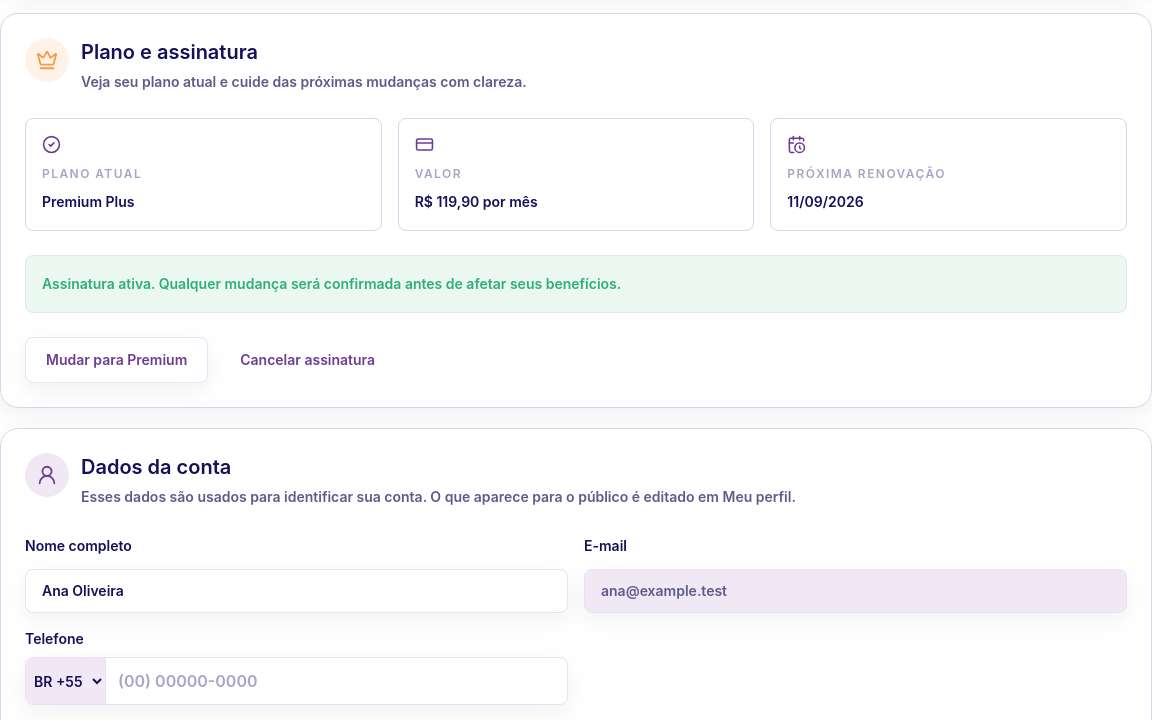
it: TherapistSettingsPage › shows the benefits end date immediately after scheduling cancellation
(page scrolled)
Click the button "Cancelar assinatura": [308, 360] box [220,337,395,383]
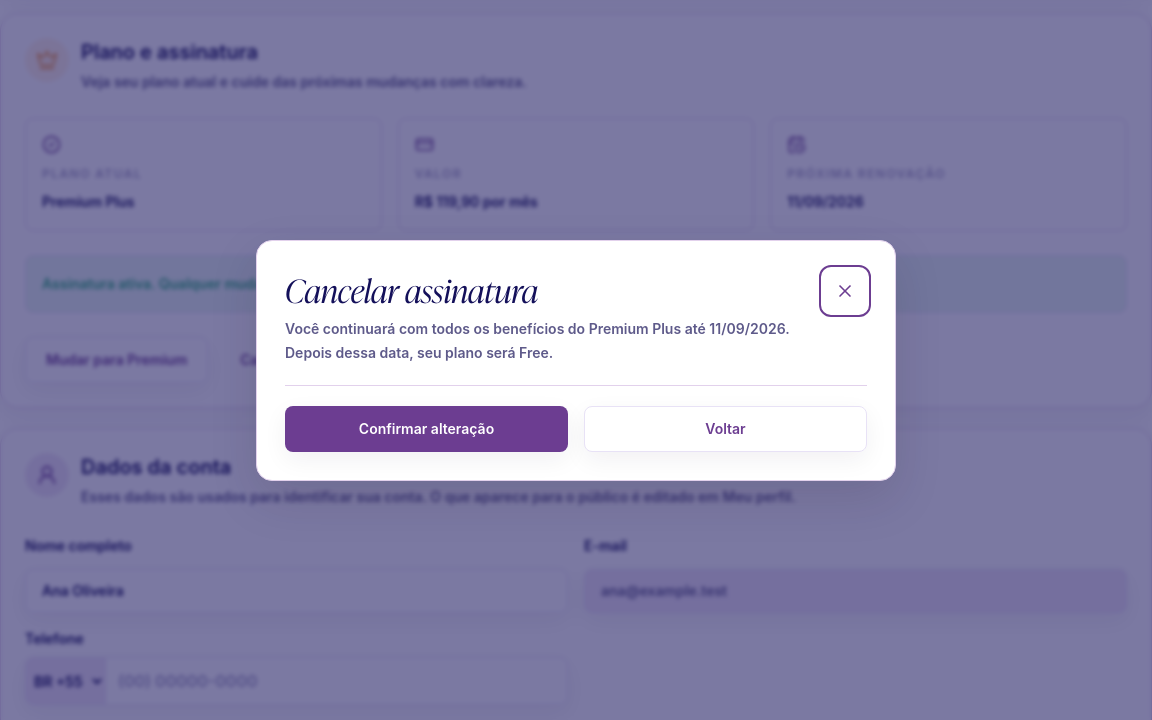
Click the button "Confirmar alteração": [426, 428] box [285,406,568,452]
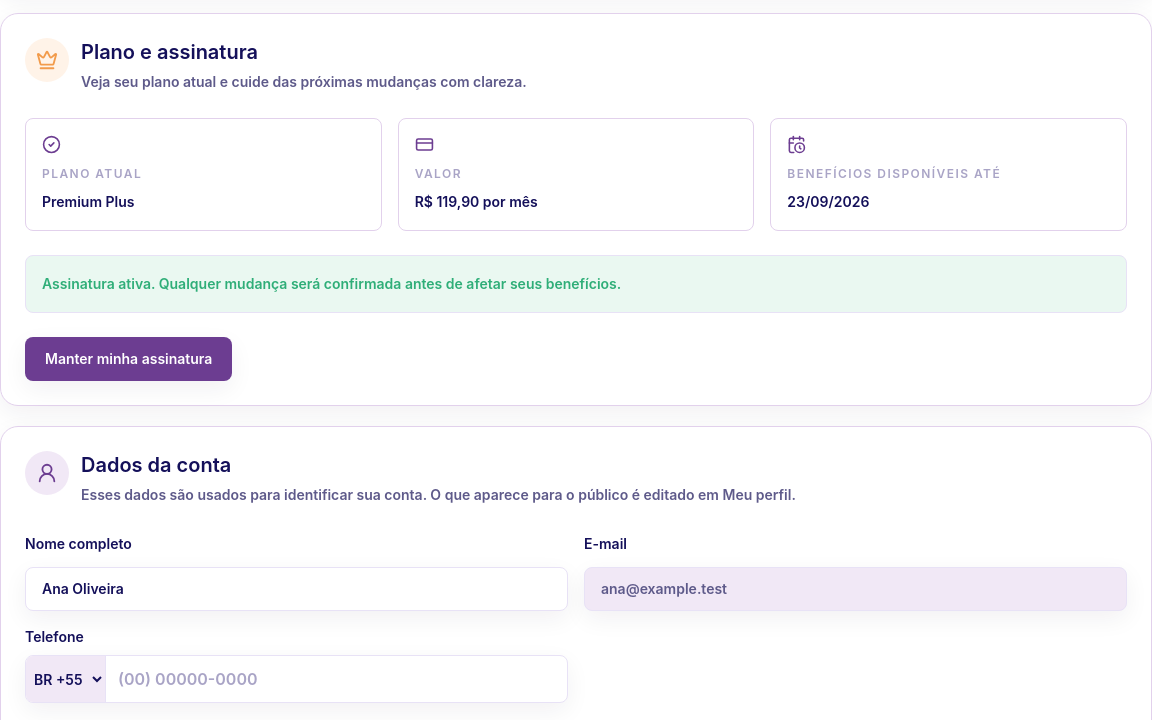
Now the text "Benefícios disponíveis até" is shown, box [787,166,1001,181]
Now the text "23/09/2026" is shown, box [787,193,869,210]
